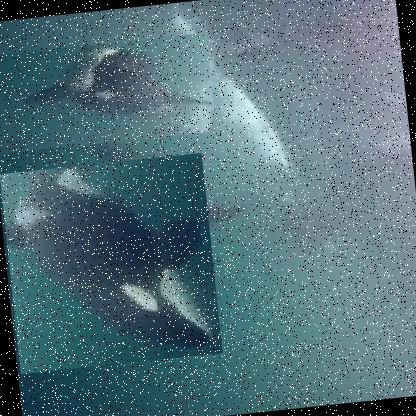killer_whale: (0, 152, 222, 375), (0, 32, 216, 156)
